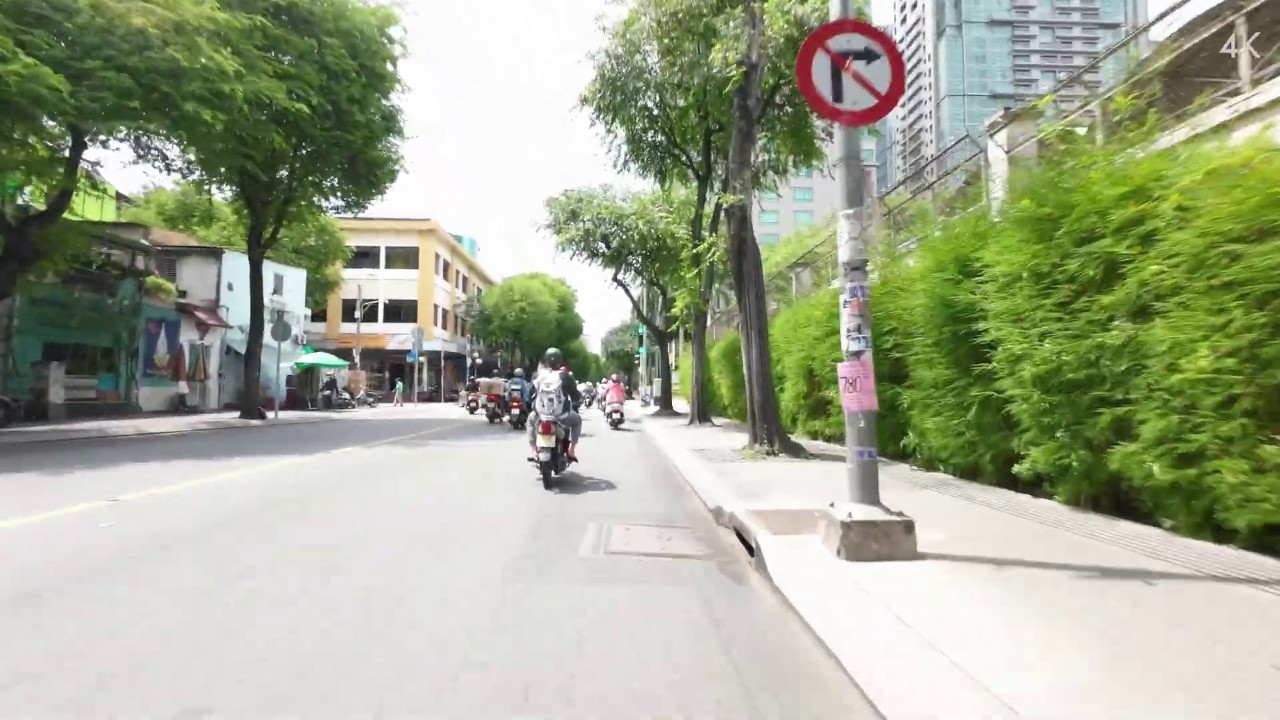cam_re_phai: (795, 18, 908, 129)
